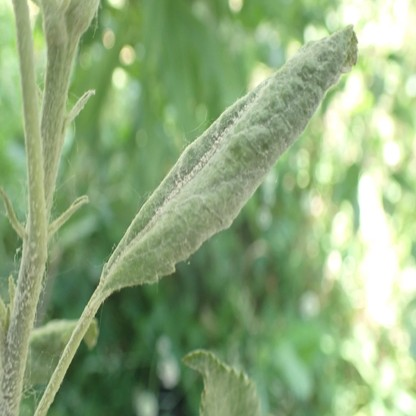powdery_mildew: (99, 23, 359, 302), (183, 350, 234, 416)
